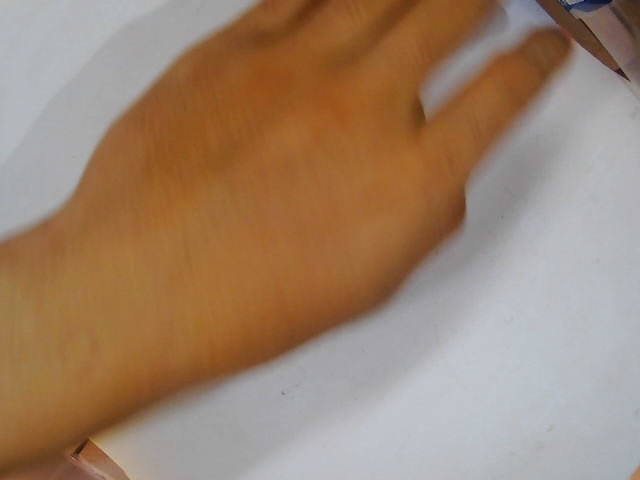paper: (0, 0, 584, 478)
